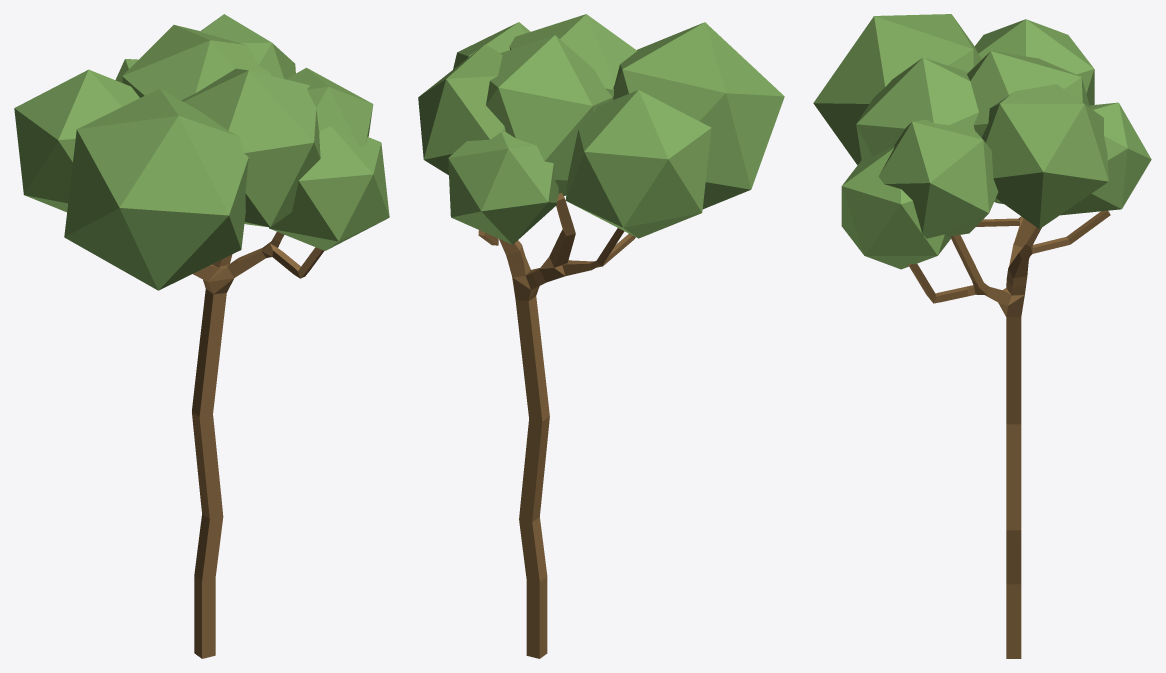
File: Tropic_Tree_Mid.fbx
3 renders of one model, left to right at view 1: azimuth 30°, elevation 25°; view 2: azimuth 150°, elevation 25°; view 3: azimuth 270°, elevation 25°, orthographic. The views are drawn at different scales.
Parts seen in each view (by area): view 1: Icosphere.050, Cube.013; view 2: Icosphere.050, Cube.013; view 3: Icosphere.050, Cube.013.
Boxes of the visible parts, x1=… form: Icosphere.050: x1=14, y1=14, x2=389, y2=290; Cube.013: x1=192, y1=232, x2=324, y2=658; Icosphere.050: x1=418, y1=14, x2=784, y2=244; Cube.013: x1=478, y1=193, x2=635, y2=658; Icosphere.050: x1=813, y1=14, x2=1151, y2=269; Cube.013: x1=908, y1=210, x2=1110, y2=658.
Size of the model in its own units: 758 by 1486 by 757.
